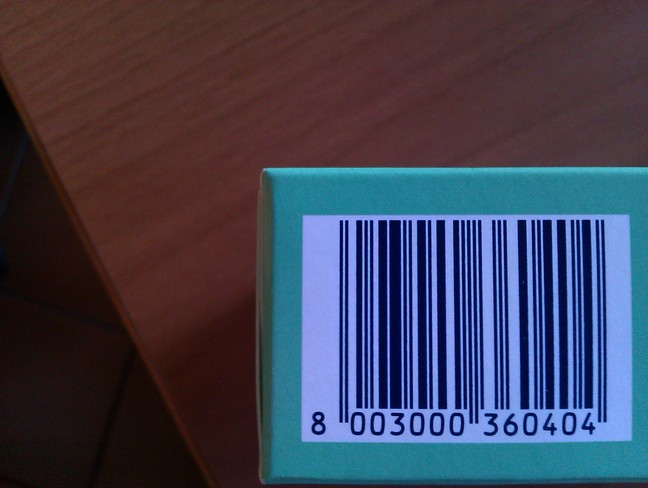barcode: (296, 214, 624, 443)
